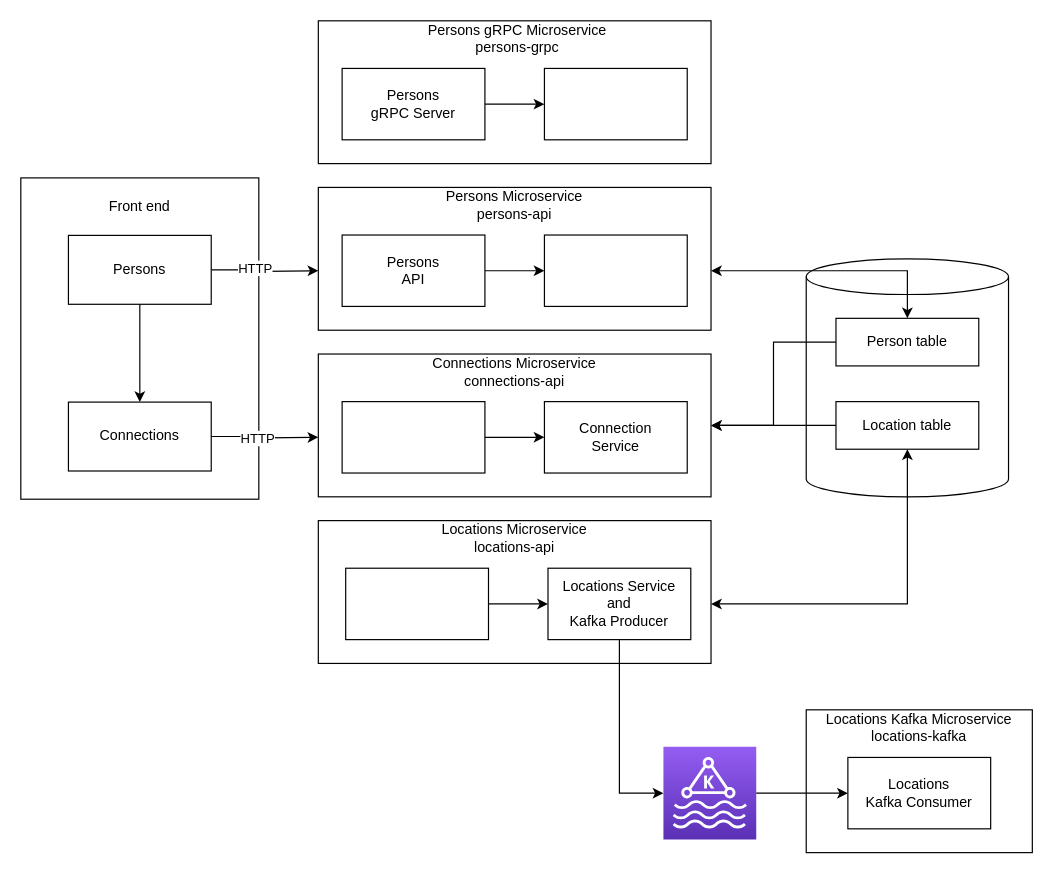
This 1053x885 diagram has some shape labels left out. The shapes that lost their labels are listed below. From the top down, each one's box as (x1, y1, x2, y2) in pixels, then its label:
(543, 67, 687, 140): Persons Mock Service
(543, 234, 687, 306): Persons Service
(341, 400, 485, 473): Connections API
(345, 567, 488, 640): Locations API
(662, 746, 756, 840): Kafka
